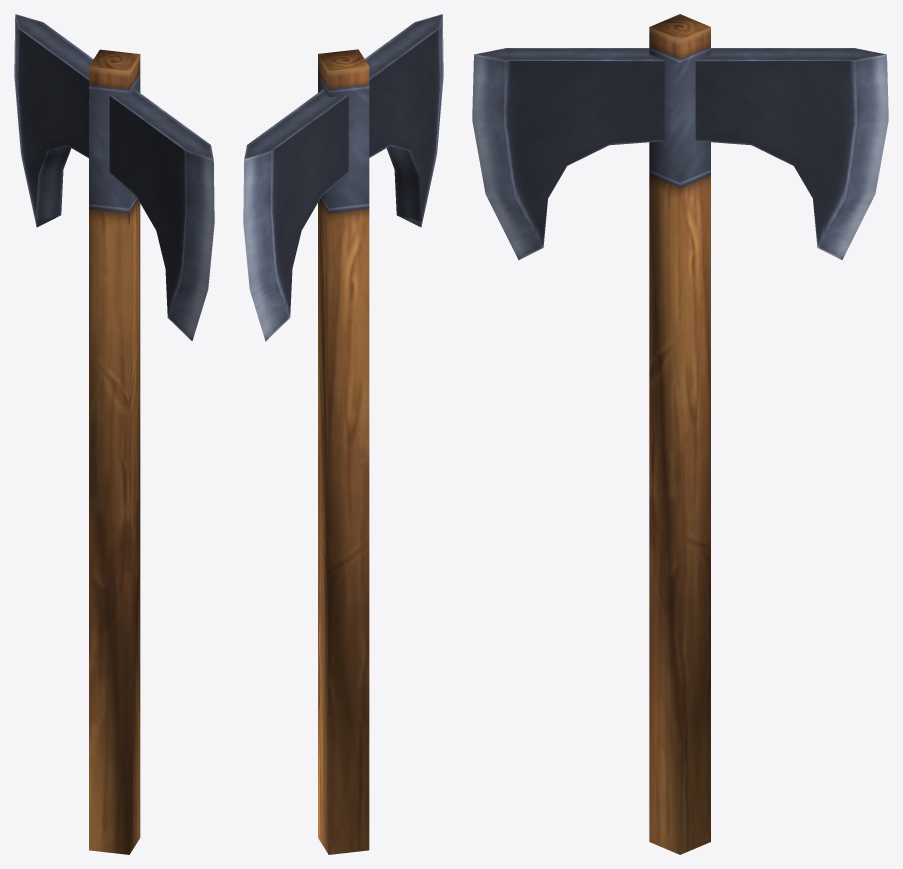
The model's file is Bilateral battle axe.FBX.
3 renders of one model, left to right at view 1: azimuth 30°, elevation 25°; view 2: azimuth 150°, elevation 25°; view 3: azimuth 270°, elevation 25°, orthographic. The views are drawn at different scales.
Visible parts, largest first — view 1: Bilateral battle axe; view 2: Bilateral battle axe; view 3: Bilateral battle axe.
Part boxes in pixels (x1=…): Bilateral battle axe: x1=14, y1=14, x2=214, y2=854; Bilateral battle axe: x1=243, y1=14, x2=443, y2=854; Bilateral battle axe: x1=472, y1=14, x2=888, y2=854.
Bounding box in the file's own units: 0.071 × 1.04 × 0.4802.
